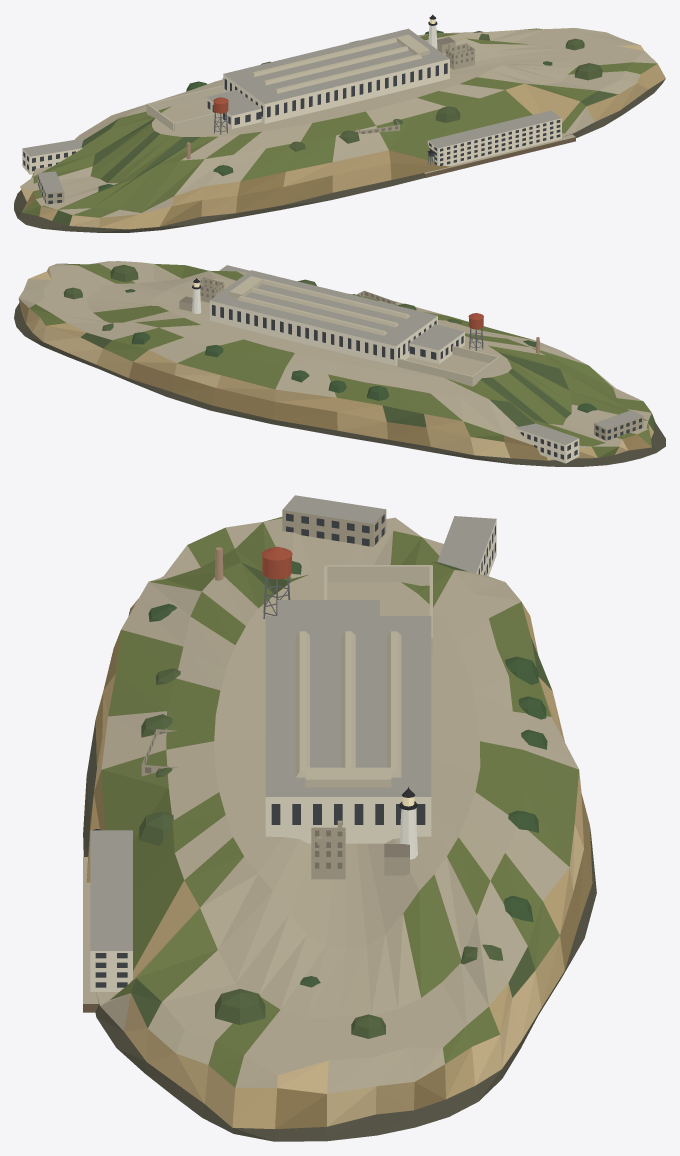
File: alcatraz.glb
The picture shows the model from 3 angles, top to bottom: view 1: azimuth 30°, elevation 25°; view 2: azimuth 150°, elevation 25°; view 3: azimuth 270°, elevation 25°; orthographic projection. The views are drawn at different scales.
Parts seen in each view (by area): view 1: alcatraz; view 2: alcatraz; view 3: alcatraz.
Boxes of the visible parts, bbox=[...] form: alcatraz: bbox=[14, 14, 665, 232]; alcatraz: bbox=[14, 261, 665, 466]; alcatraz: bbox=[83, 495, 596, 1141].
Size of the model in its own units: 510 by 64.5 by 180.
1 material, 1 textured.
